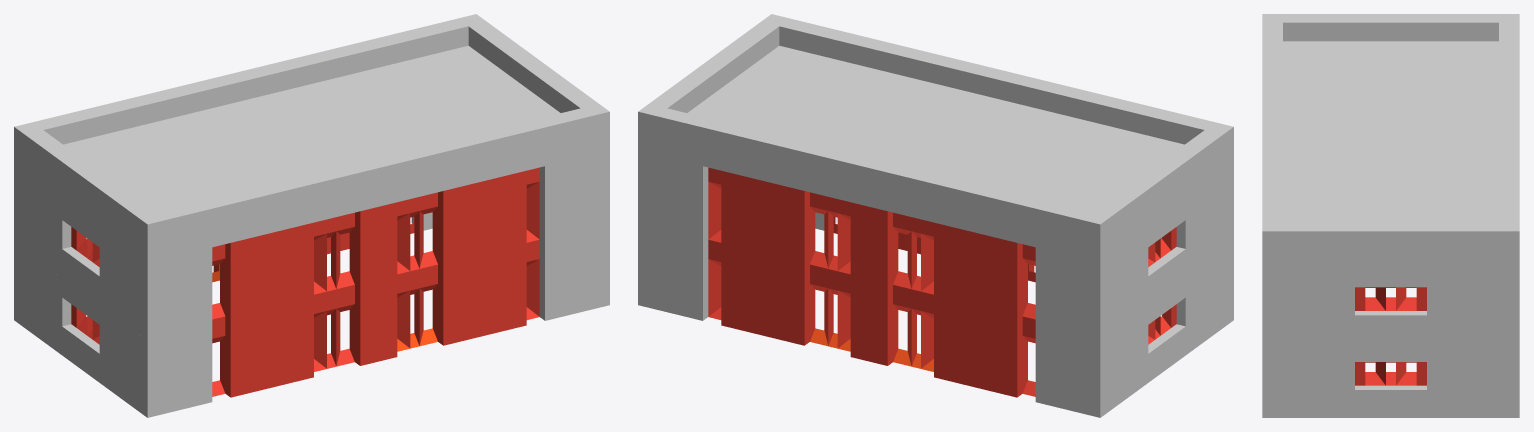
The model's file is group669033653_lev3.glb.
3 renders of one model, left to right at view 1: azimuth 30°, elevation 25°; view 2: azimuth 150°, elevation 25°; view 3: azimuth 270°, elevation 25°, orthographic. The views are drawn at different scales.
Parts seen in each view (by area): view 1: group669033653_lev3; view 2: group669033653_lev3; view 3: group669033653_lev3.
Part boxes in pixels (bbox=[...]): group669033653_lev3: bbox=[14, 14, 609, 417]; group669033653_lev3: bbox=[638, 14, 1233, 417]; group669033653_lev3: bbox=[1262, 14, 1519, 417].
Size of the model in its own units: 9.38 by 3.75 by 4.69.
